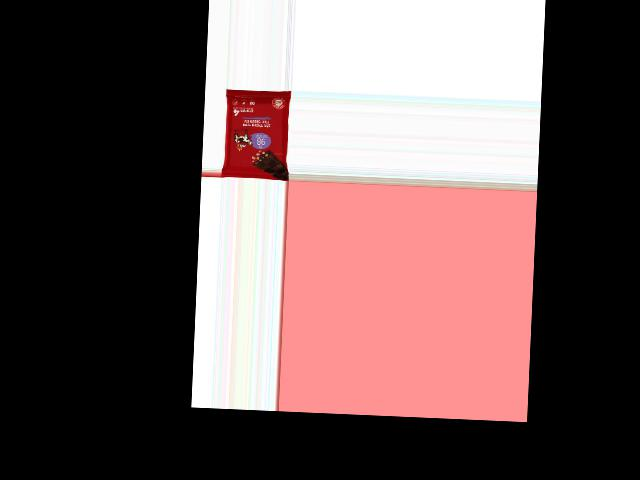chocolate: (221, 87, 289, 179)
